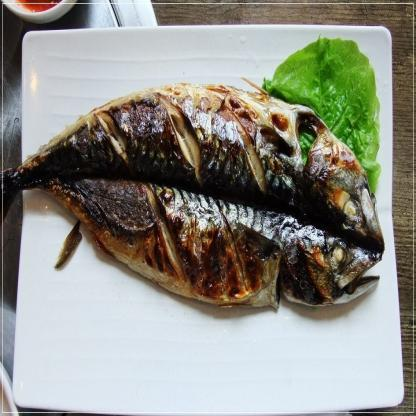Peixe: (0, 80, 384, 320)
